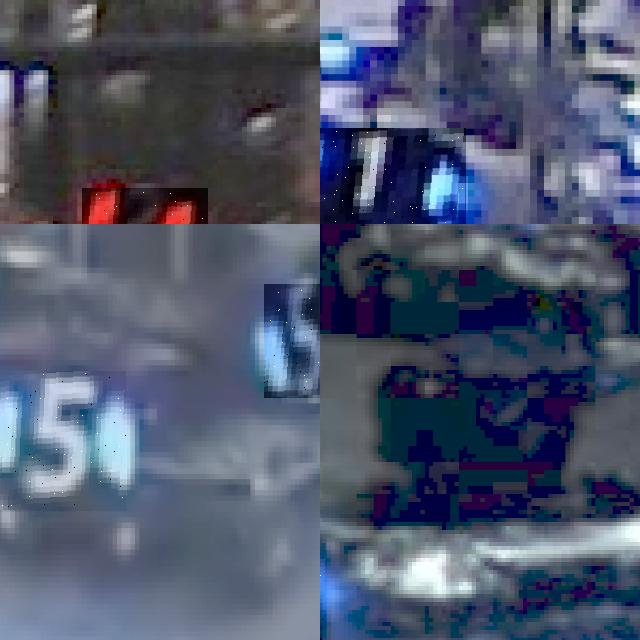B1: (320, 128, 467, 224)
B5: (0, 370, 126, 511), (263, 284, 320, 398)
R2: (82, 188, 208, 224)
